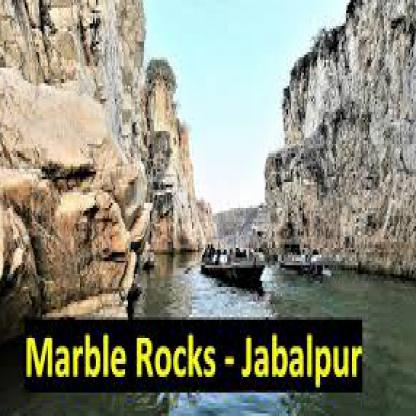Metamorphic_Marble: (0, 62, 133, 167), (33, 190, 137, 299)
